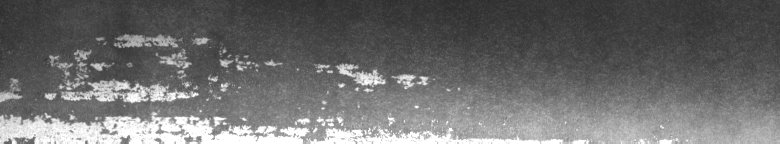kb: (4, 28, 460, 136)
